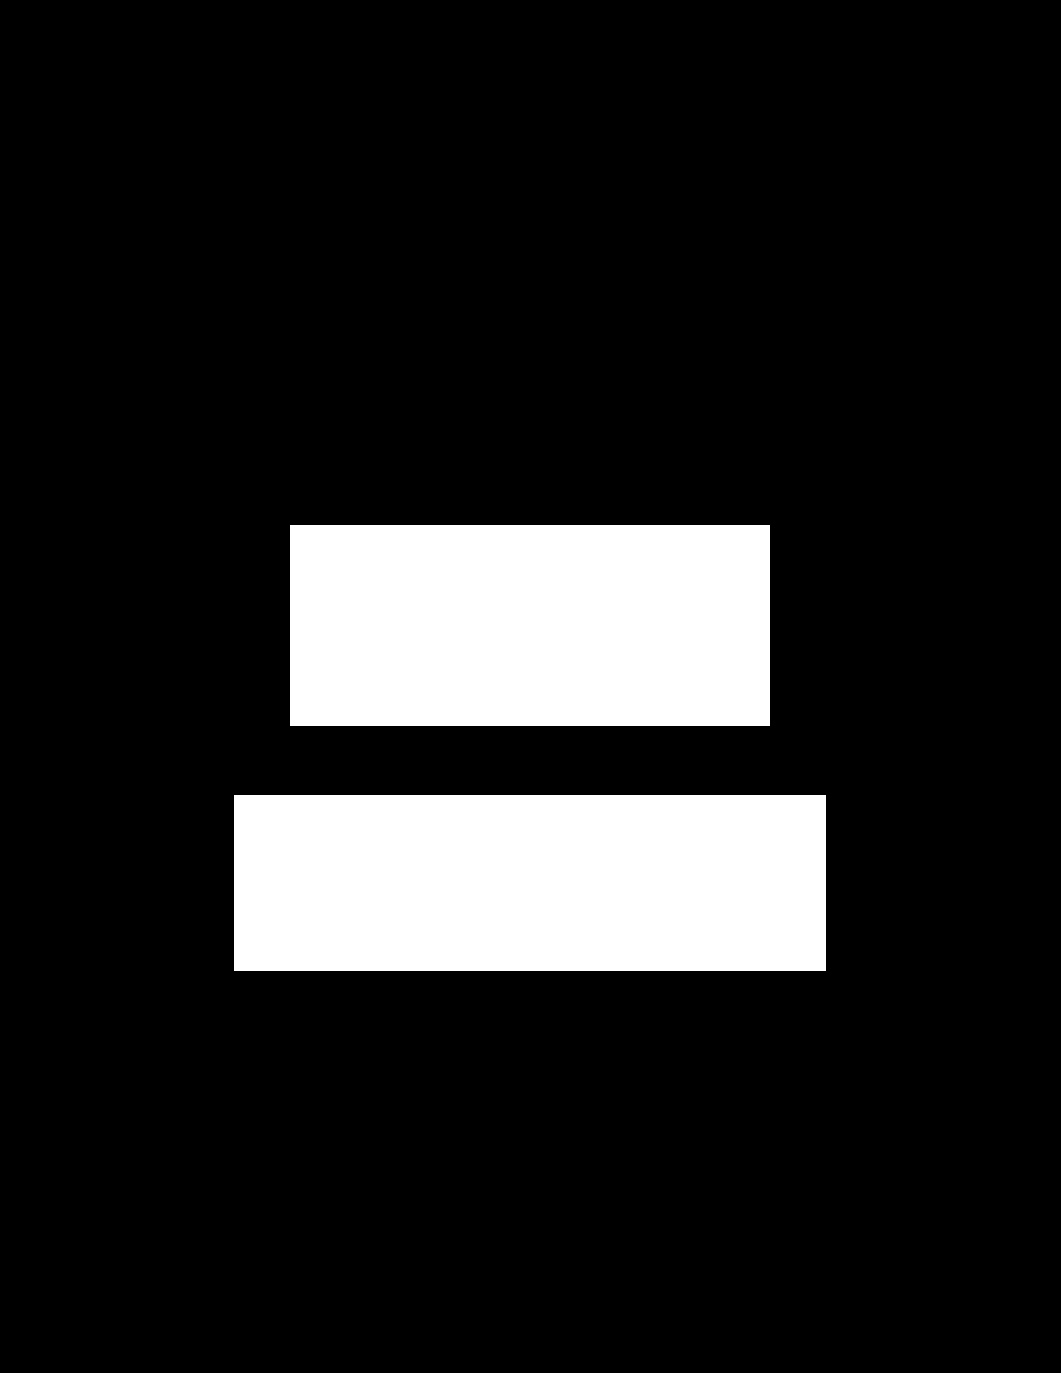table: (234, 795, 825, 970), (290, 525, 769, 726)
